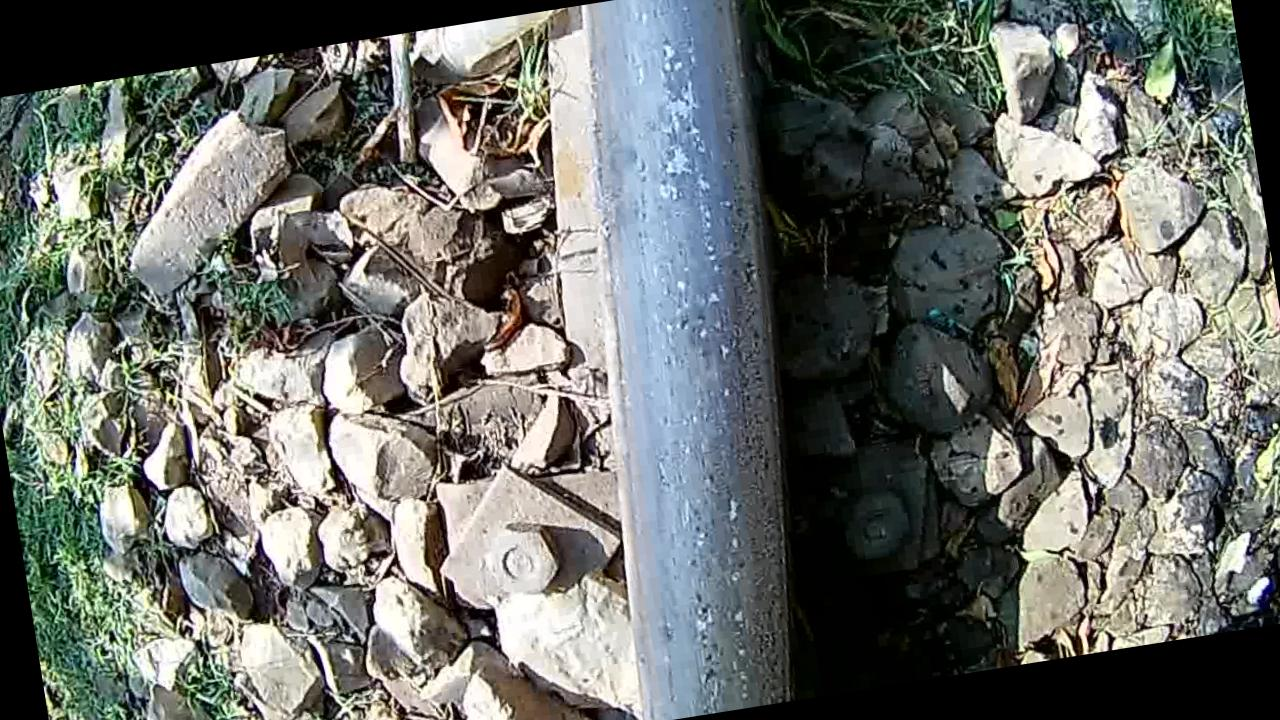clip_missing: (545, 0, 847, 720)
